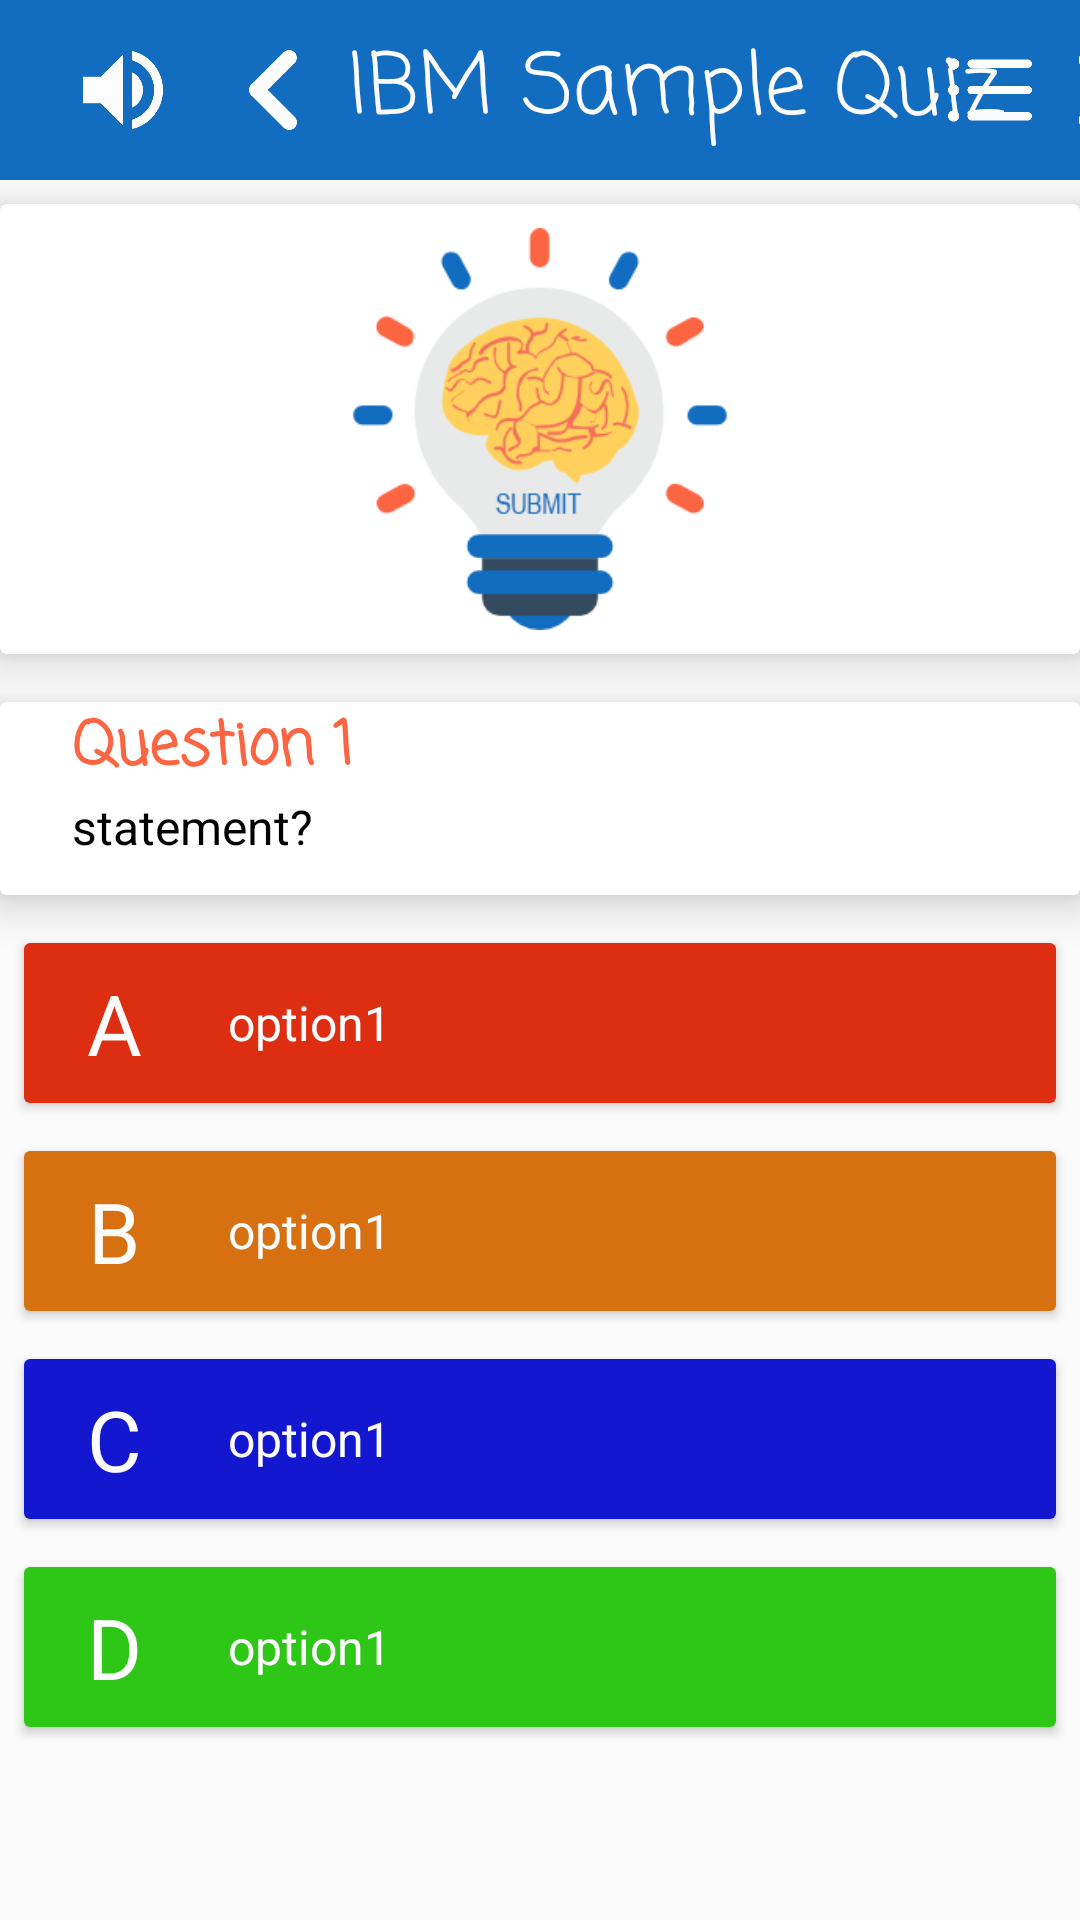

Icon bounding boxes for this 1080 × 1920 phone screenshot, format (x1, y1, x2, y2):
previous: (249, 50, 297, 130)
speak: (83, 51, 163, 129)
